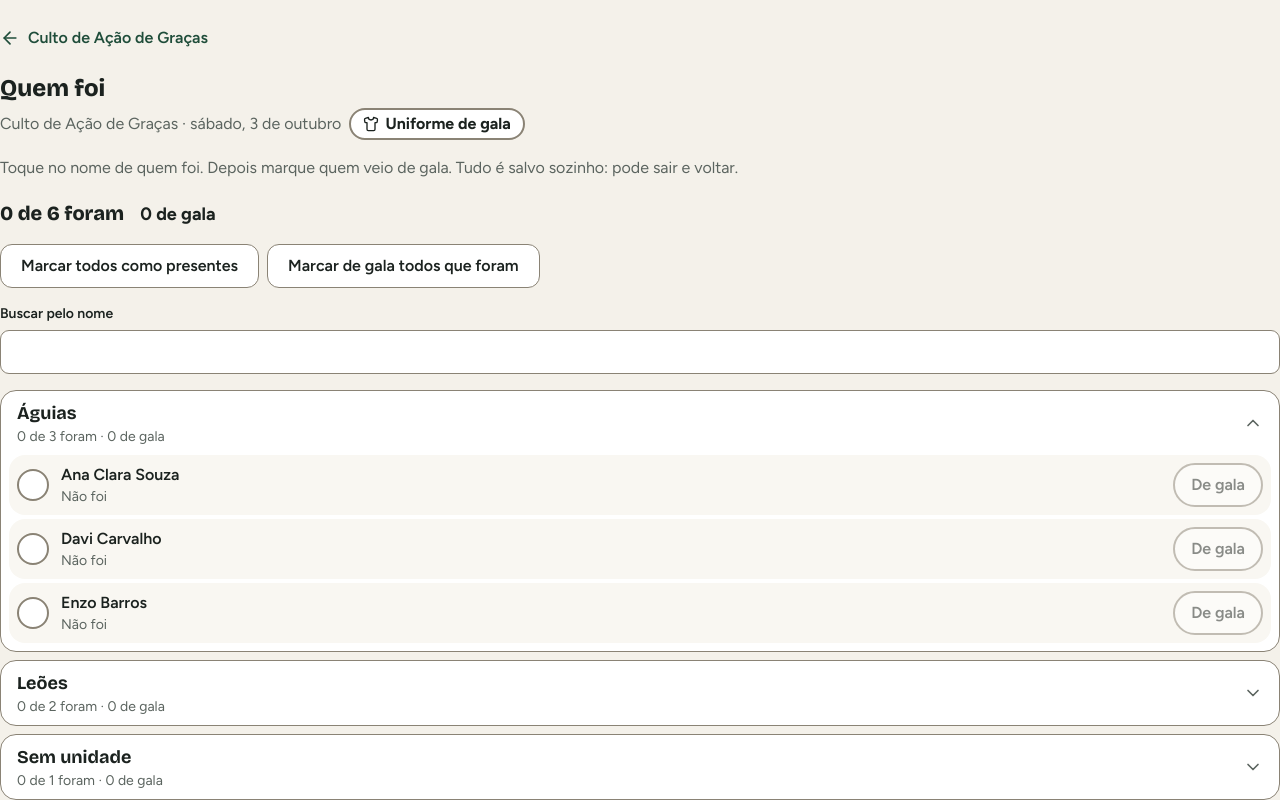
Test: lista "Quem foi" no celular › "Marcar todos como presentes" e depois "Marcar de gala todos que foram" fazem uma requisição cada (C18)
The width and height of the screenshot is (1280, 800).
expect the text "Ana Clara Souza" is shown: met, box [61,463,179,487]
Click the button "Marcar todos como presentes". click: (130, 266)
box: [0,244,259,288]
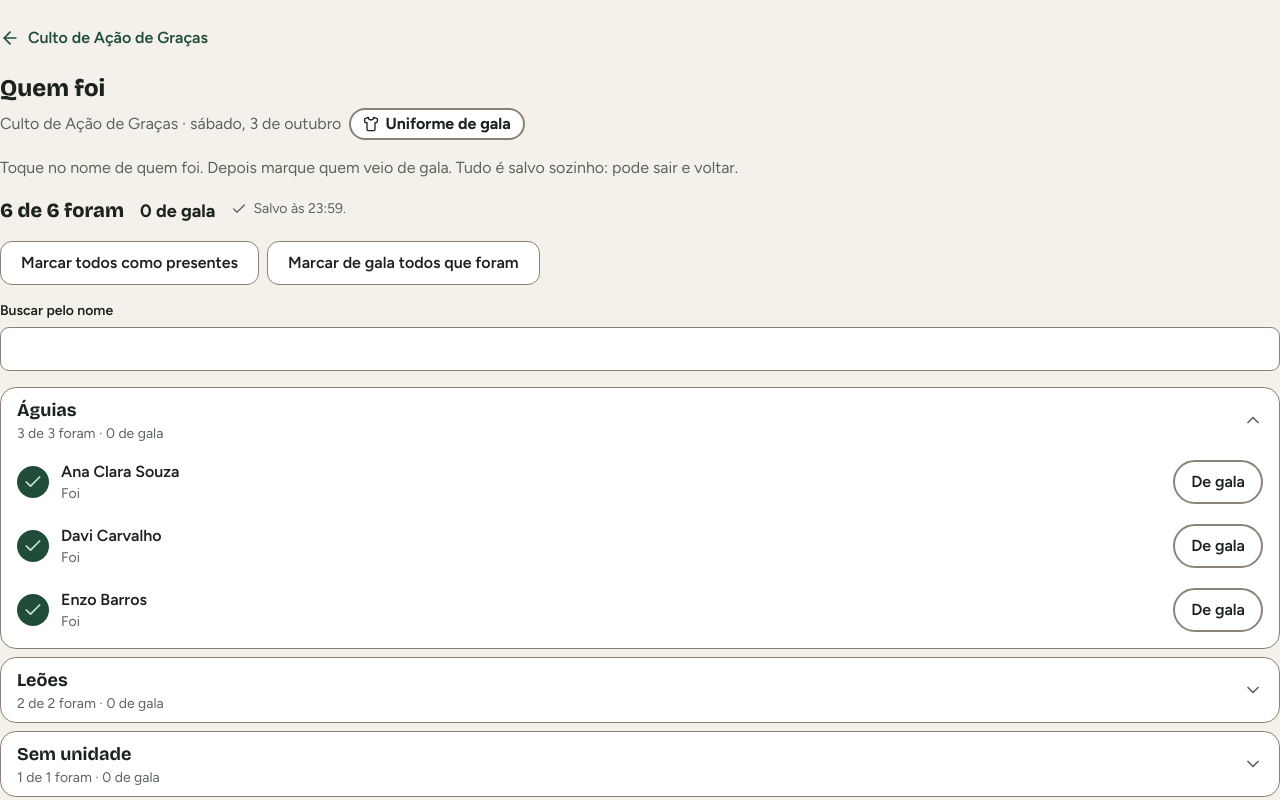
expect the text "6 de 6 foram" is shown: met, box [0,196,124,224]
Click the button "Davi Carvalho Foi". click: (33, 546)
box: [17,524,1165,568]
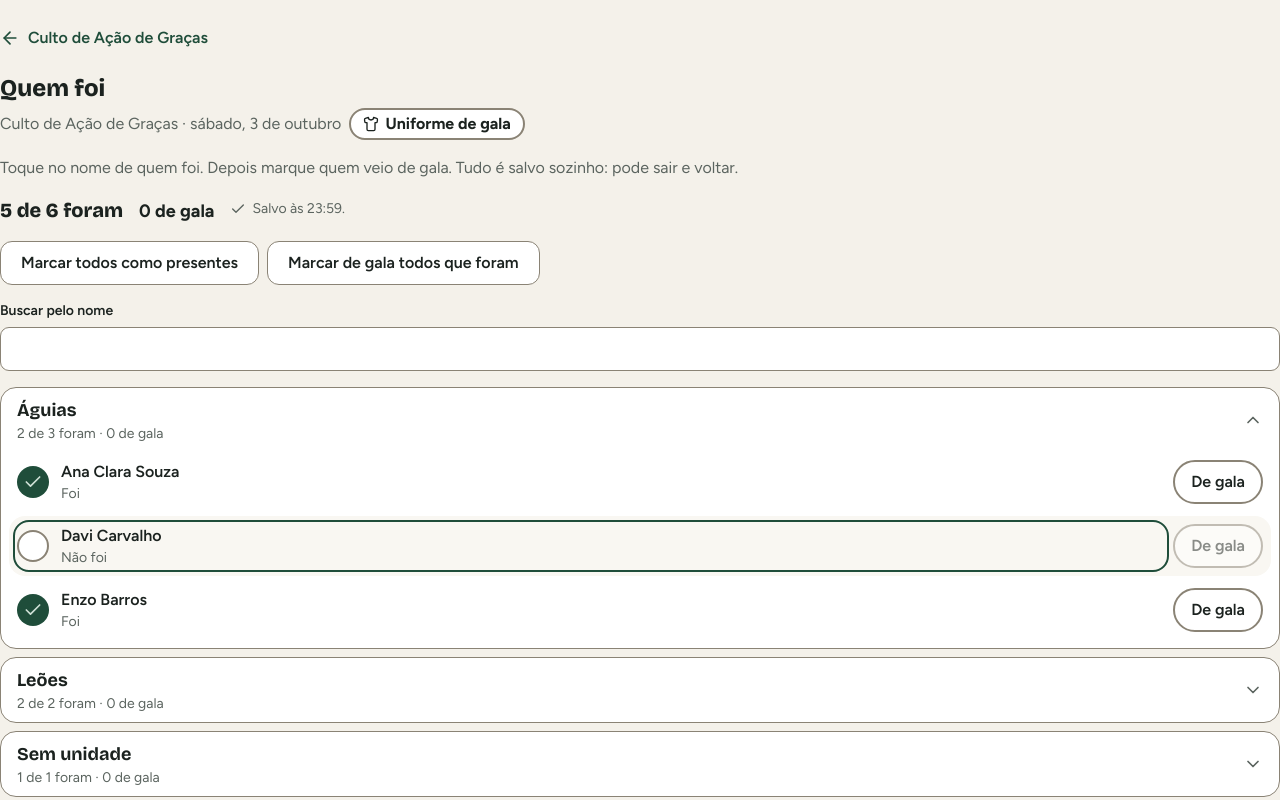
expect the text "5 de 6 foram" is shown: met, box [0,196,123,224]
Click the button "Marcar de gala todos que foram". click: (403, 263)
box: [267,241,540,285]
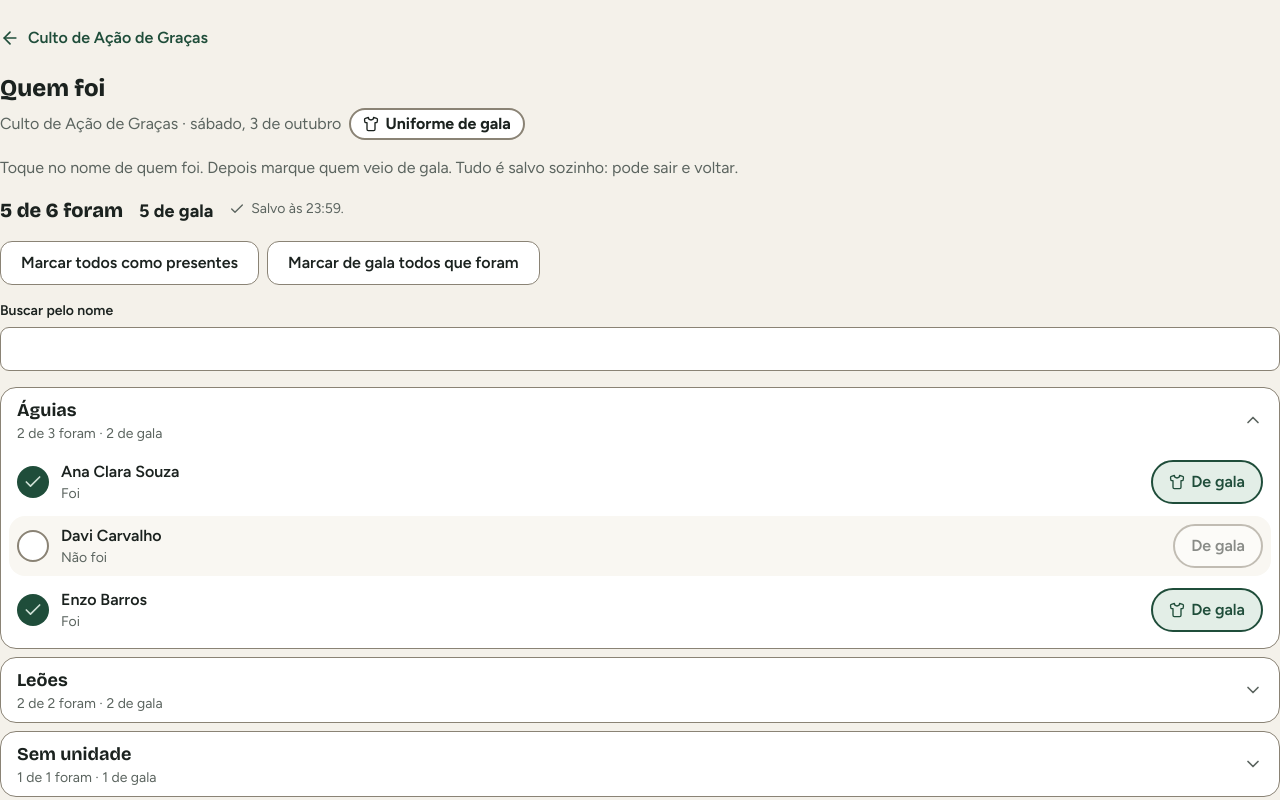
expect the text "5 de gala" is shown: met, box [139,197,213,225]
